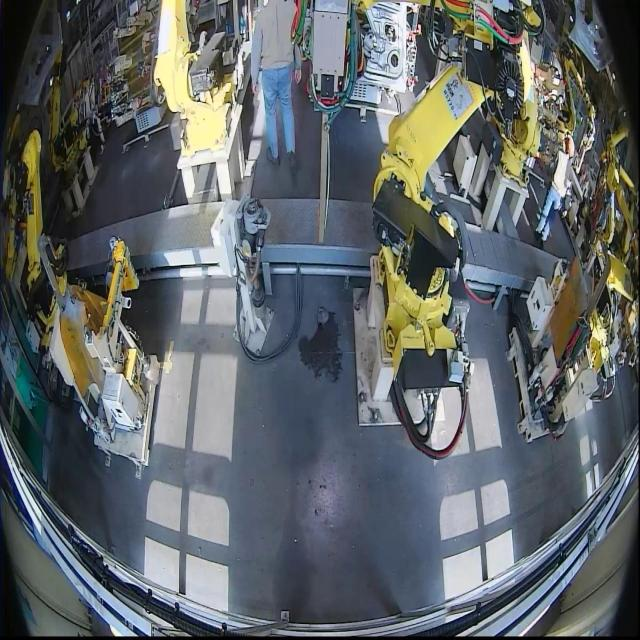Person: (250, 0, 302, 168), (533, 131, 575, 244)
